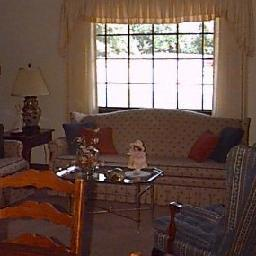Ventana: (90, 17, 221, 113)
